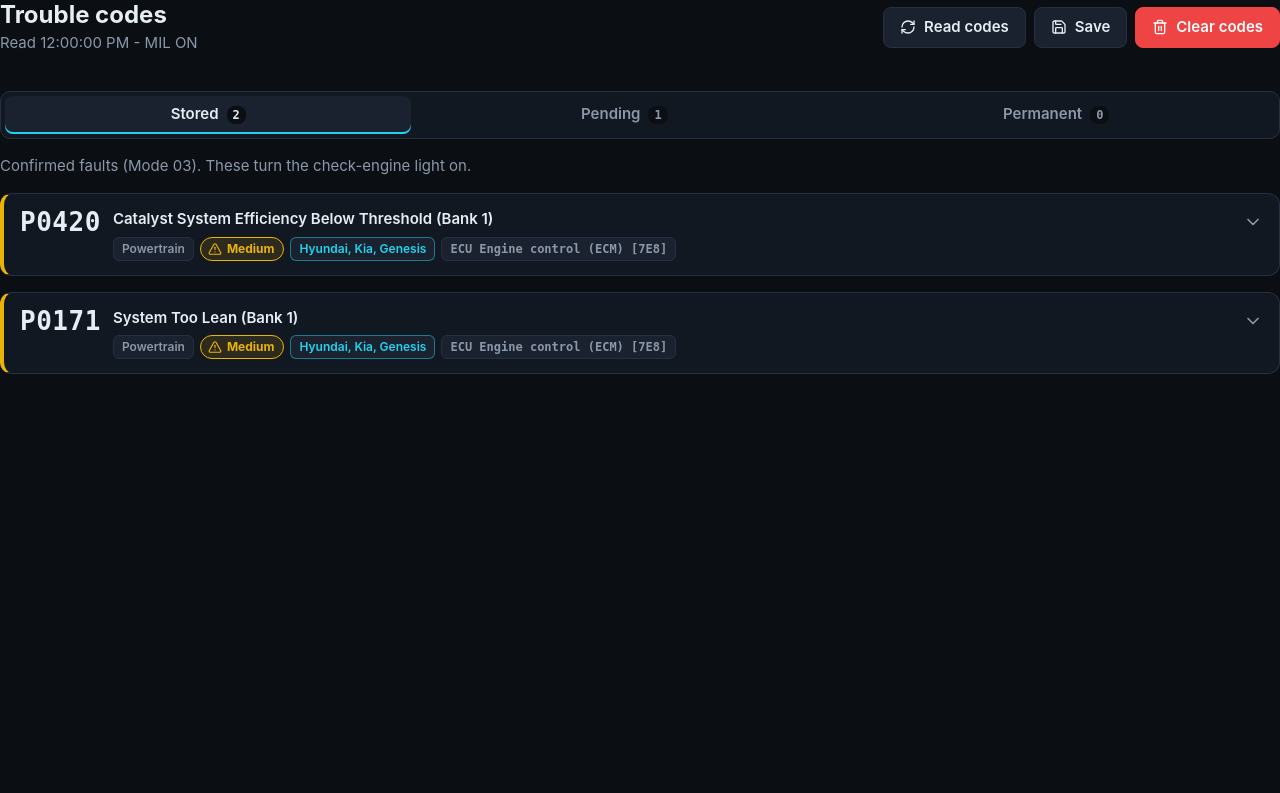
Test: CodesPage › renders the codes from context with explanations
The width and height of the screenshot is (1280, 793).
expect the text "P0420" is shown: met, box [20,208,101,237]
expect the text "P0171" is shown: met, box [20,306,101,335]
expand the first card
Click the button "P0420" at (642, 234), box [4,194,1279,274]
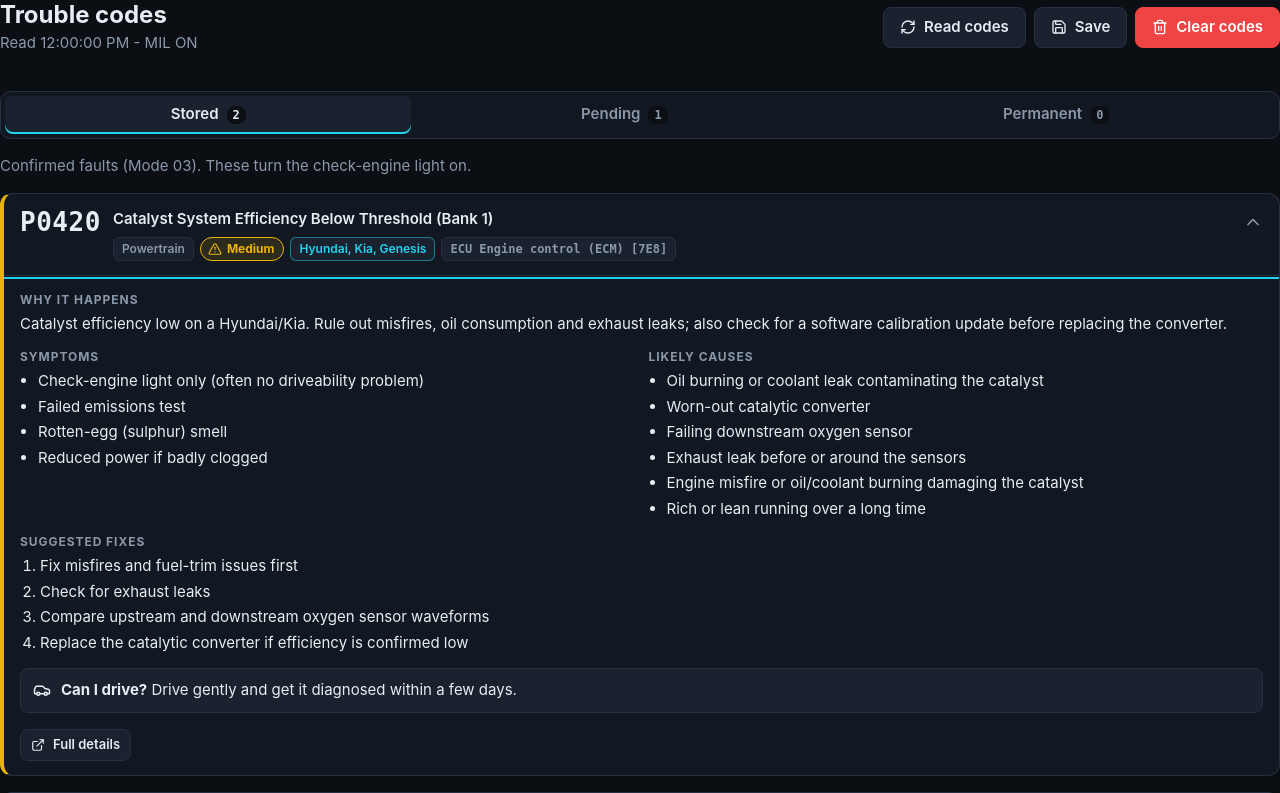
expect the heading "Why it happens" is shown: met, box [20,292,138,306]
expect the heading "Suggested fixes" is shown: met, box [20,534,145,549]
expect the text "Can I drive?" is shown: met, box [61,680,147,699]
pending tab
Click the tab "Pending 1" at (624, 114), box [415,96,833,134]
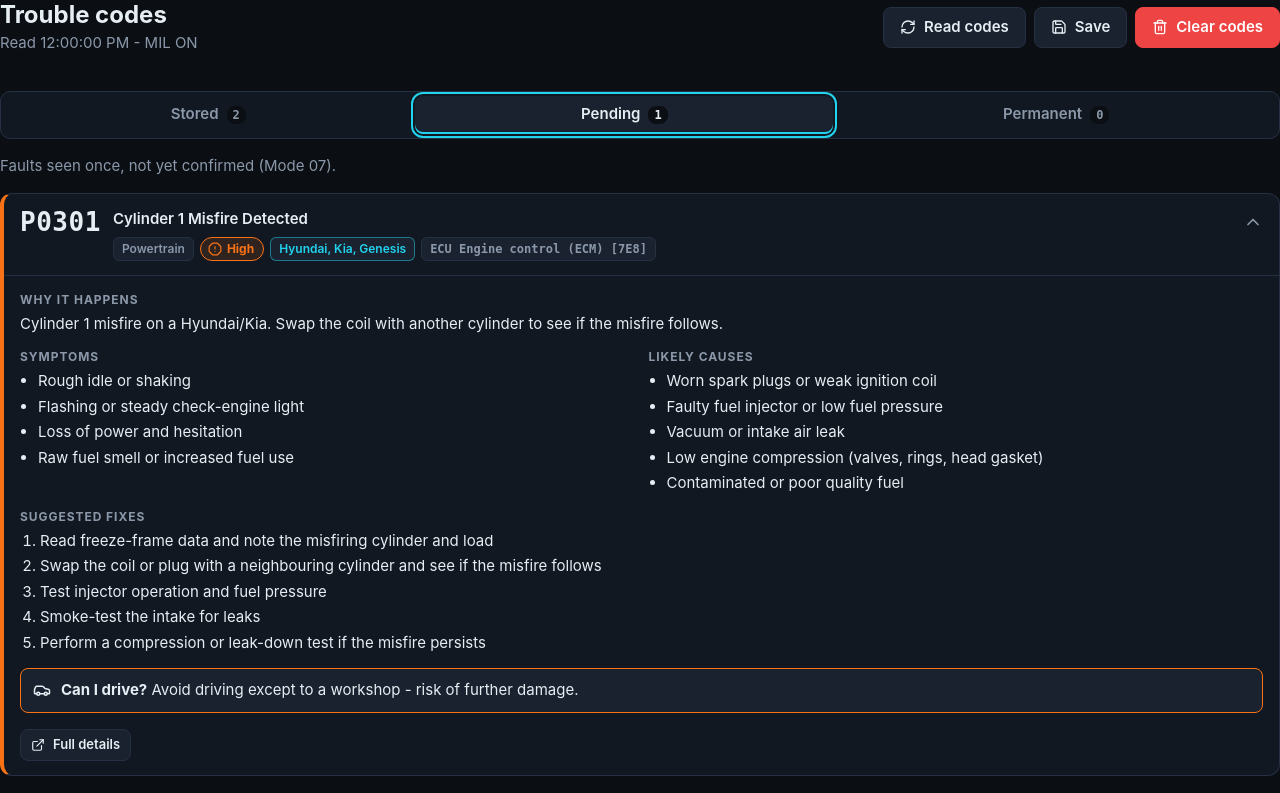
expect the text "P0301" is shown: met, box [20,208,101,237]
